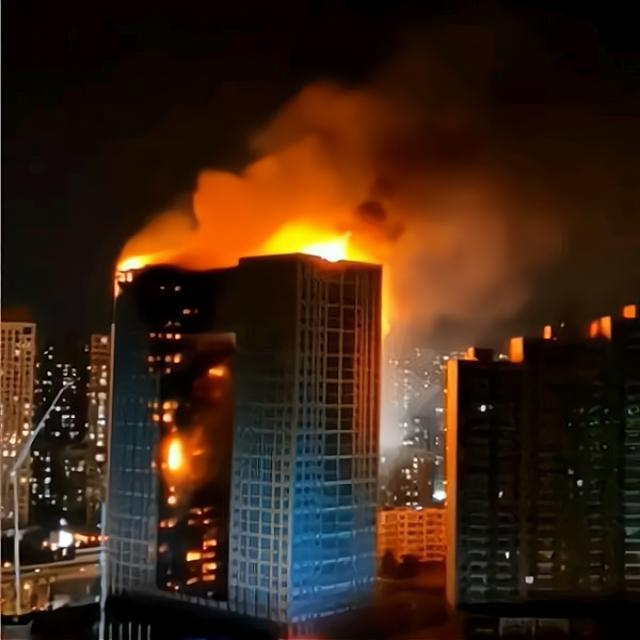Fire: (272, 214, 368, 264), (161, 434, 191, 476)
Smoke: (189, 80, 546, 210), (124, 214, 268, 264)
